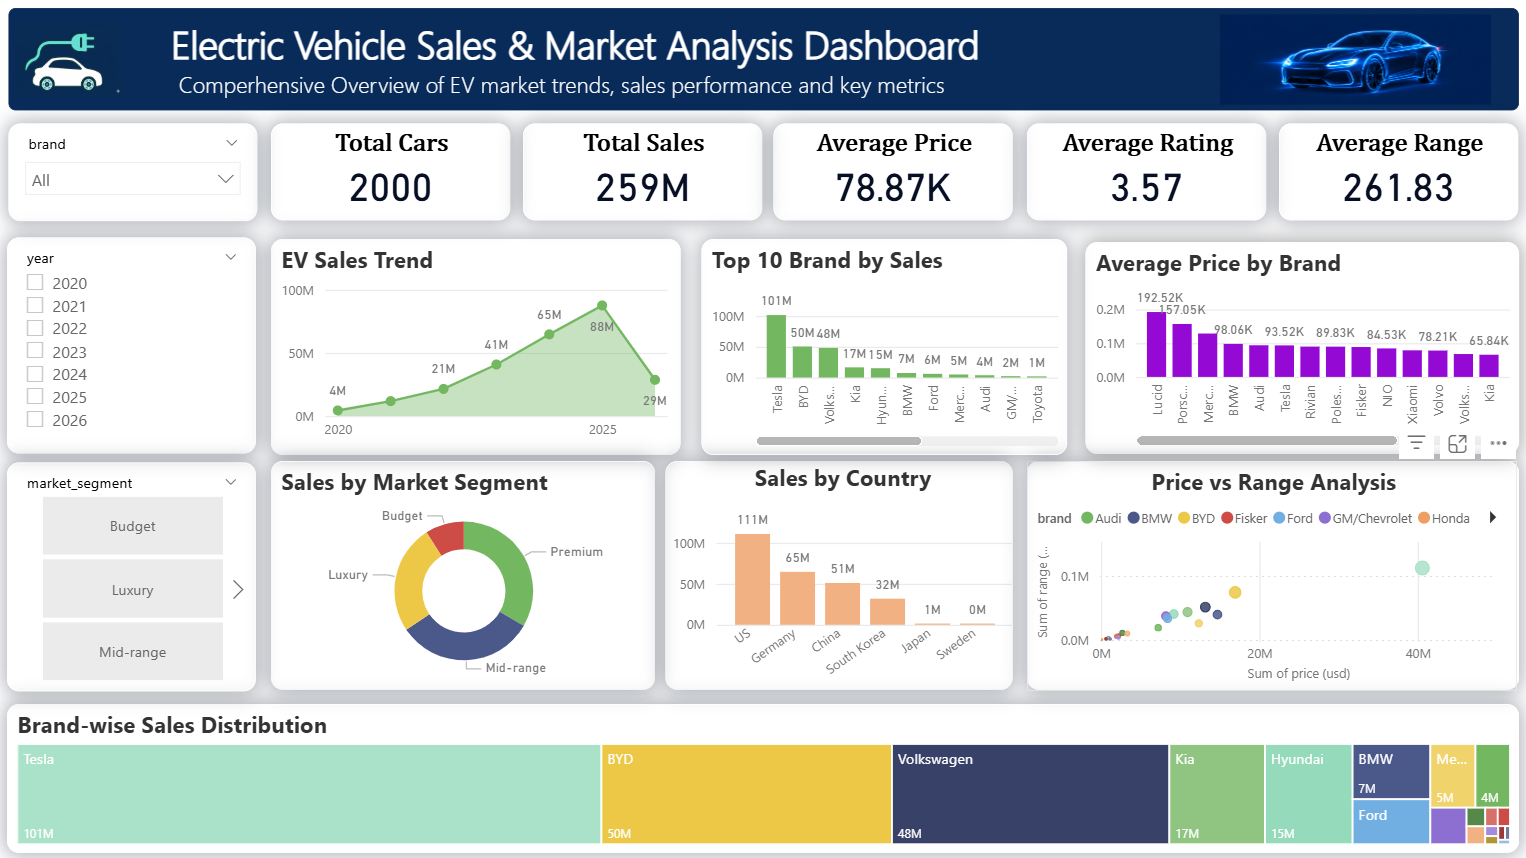

What the dashboard file says about the page in this screenshot:
{"tool":"powerbi","page":{"name":"Page 1","canvas":[1280,720],"ordinal":0},"visuals":[{"type":"clusteredColumnChart","title":"Average Price by Brand","fields":{"Category":["ev_dataset.brand"],"Y":["ev_dataset.Average Price"]},"box":[908.2,202.7,361.1,176.8],"z":0},{"type":"lineChart","title":"EV Sales Trend","fields":{"Category":["ev_dataset.year"],"Y":["Sum(ev_dataset.sales (Units))"]},"box":[230.1,199.6,341.3,179.8],"z":1000},{"type":"donutChart","title":"Sales by Market Segment","fields":{"Category":["ev_dataset.market_segment"],"Y":["Sum(ev_dataset.annual_sales_units)"]},"box":[230.1,385.5,320,190.5],"z":2000},{"type":"clusteredColumnChart","title":"Sales by Country","fields":{"Category":["ev_dataset.country_of_origin"],"Y":["Sum(ev_dataset.annual_sales_units)"]},"box":[559.2,385.5,289.5,190.5],"z":3000},{"type":"slicer","fields":{"Values":["ev_dataset.brand"]},"box":[11.2,103.5,207.1,81.1],"z":4000},{"type":"scatterChart","title":"Price vs Range Analysis","fields":{"X":["Sum(ev_dataset.price_usd)"],"Y":["Sum(ev_dataset.range_miles)"],"Size":["Sum(ev_dataset.battery_capacity)"],"Series":["ev_dataset.brand"]},"box":[859.4,385.5,409.9,190.5],"z":5000},{"type":"treemap","title":"Brand-wise Sales Distribution","fields":{"Values":["Sum(ev_dataset.annual_sales_units)"],"Group":["ev_dataset.brand"]},"box":[10.6,587.5,1259.8,124.2],"z":6000},{"type":"textbox","box":[10.7,7.6,1258.7,85.3],"z":7000},{"type":"image","box":[10.7,7.6,100.6,85.3],"z":8000},{"type":"image","box":[1008.8,7.6,249.9,85.3],"z":9000},{"type":"card","title":"Total Cars","fields":{"Values":["ev_dataset.Total Cars"]},"box":[230.1,103.6,199.6,80.8],"z":11000},{"type":"card","title":"Total Sales","fields":{"Values":["ev_dataset.Total Sales"]},"box":[440.4,103.6,199.6,80.8],"z":12000},{"type":"card","title":"Average Price","fields":{"Values":["ev_dataset.Average Price"]},"box":[649.1,103.6,199.6,80.8],"z":13000},{"type":"card","title":"Average Rating","fields":{"Values":["ev_dataset.Average Rating"]},"box":[859.4,103.6,199.6,80.8],"z":14000},{"type":"card","title":"Average Range","fields":{"Values":["ev_dataset.Average Range"]},"box":[1069.7,103.6,199.6,80.8],"z":15000},{"type":"slicer","fields":{"Values":["ev_dataset.year"]},"box":[10.6,198.4,207.4,180.2],"z":16000},{"type":"slicer","fields":{"Values":["ev_dataset.market_segment"]},"box":[10.6,386.1,207.4,190.8],"z":17000},{"type":"clusteredColumnChart","title":"Top 10 Brand by Sales","fields":{"Category":["ev_dataset.brand"],"Y":["Sum(ev_dataset.sales (Units))"]},"box":[588.2,199.6,304.8,179.8],"z":18000}]}

Visuals, with their boxes in screenshot pixels (x1, y1, x2, y2), scaled from the page's 1280x720 canvas onto the 1526x858 screenshot:
"Average Price by Brand" clusteredColumnChart: box(1083, 242, 1513, 452)
"EV Sales Trend" lineChart: box(274, 238, 681, 452)
"Sales by Market Segment" donutChart: box(274, 459, 656, 686)
"Sales by Country" clusteredColumnChart: box(667, 459, 1012, 686)
slicer - ev_dataset.brand: box(13, 123, 260, 220)
"Price vs Range Analysis" scatterChart: box(1025, 459, 1513, 686)
"Brand-wise Sales Distribution" treemap: box(13, 700, 1515, 848)
textbox: box(13, 9, 1513, 111)
image: box(13, 9, 133, 111)
image: box(1203, 9, 1501, 111)
"Total Cars" card: box(274, 123, 512, 220)
"Total Sales" card: box(525, 123, 763, 220)
"Average Price" card: box(774, 123, 1012, 220)
"Average Rating" card: box(1025, 123, 1263, 220)
"Average Range" card: box(1275, 123, 1513, 220)
slicer - ev_dataset.year: box(13, 236, 260, 451)
slicer - ev_dataset.market_segment: box(13, 460, 260, 687)
"Top 10 Brand by Sales" clusteredColumnChart: box(701, 238, 1065, 452)
